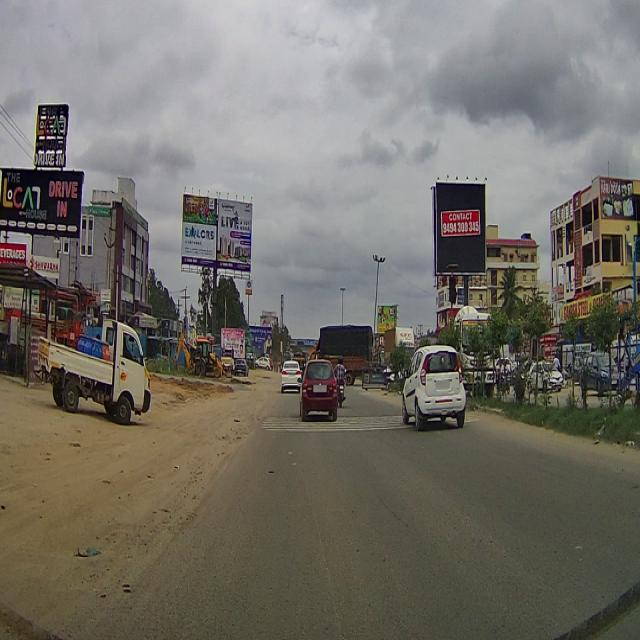car ahead at: (36, 308, 156, 436), (394, 338, 472, 437), (299, 353, 341, 425)
